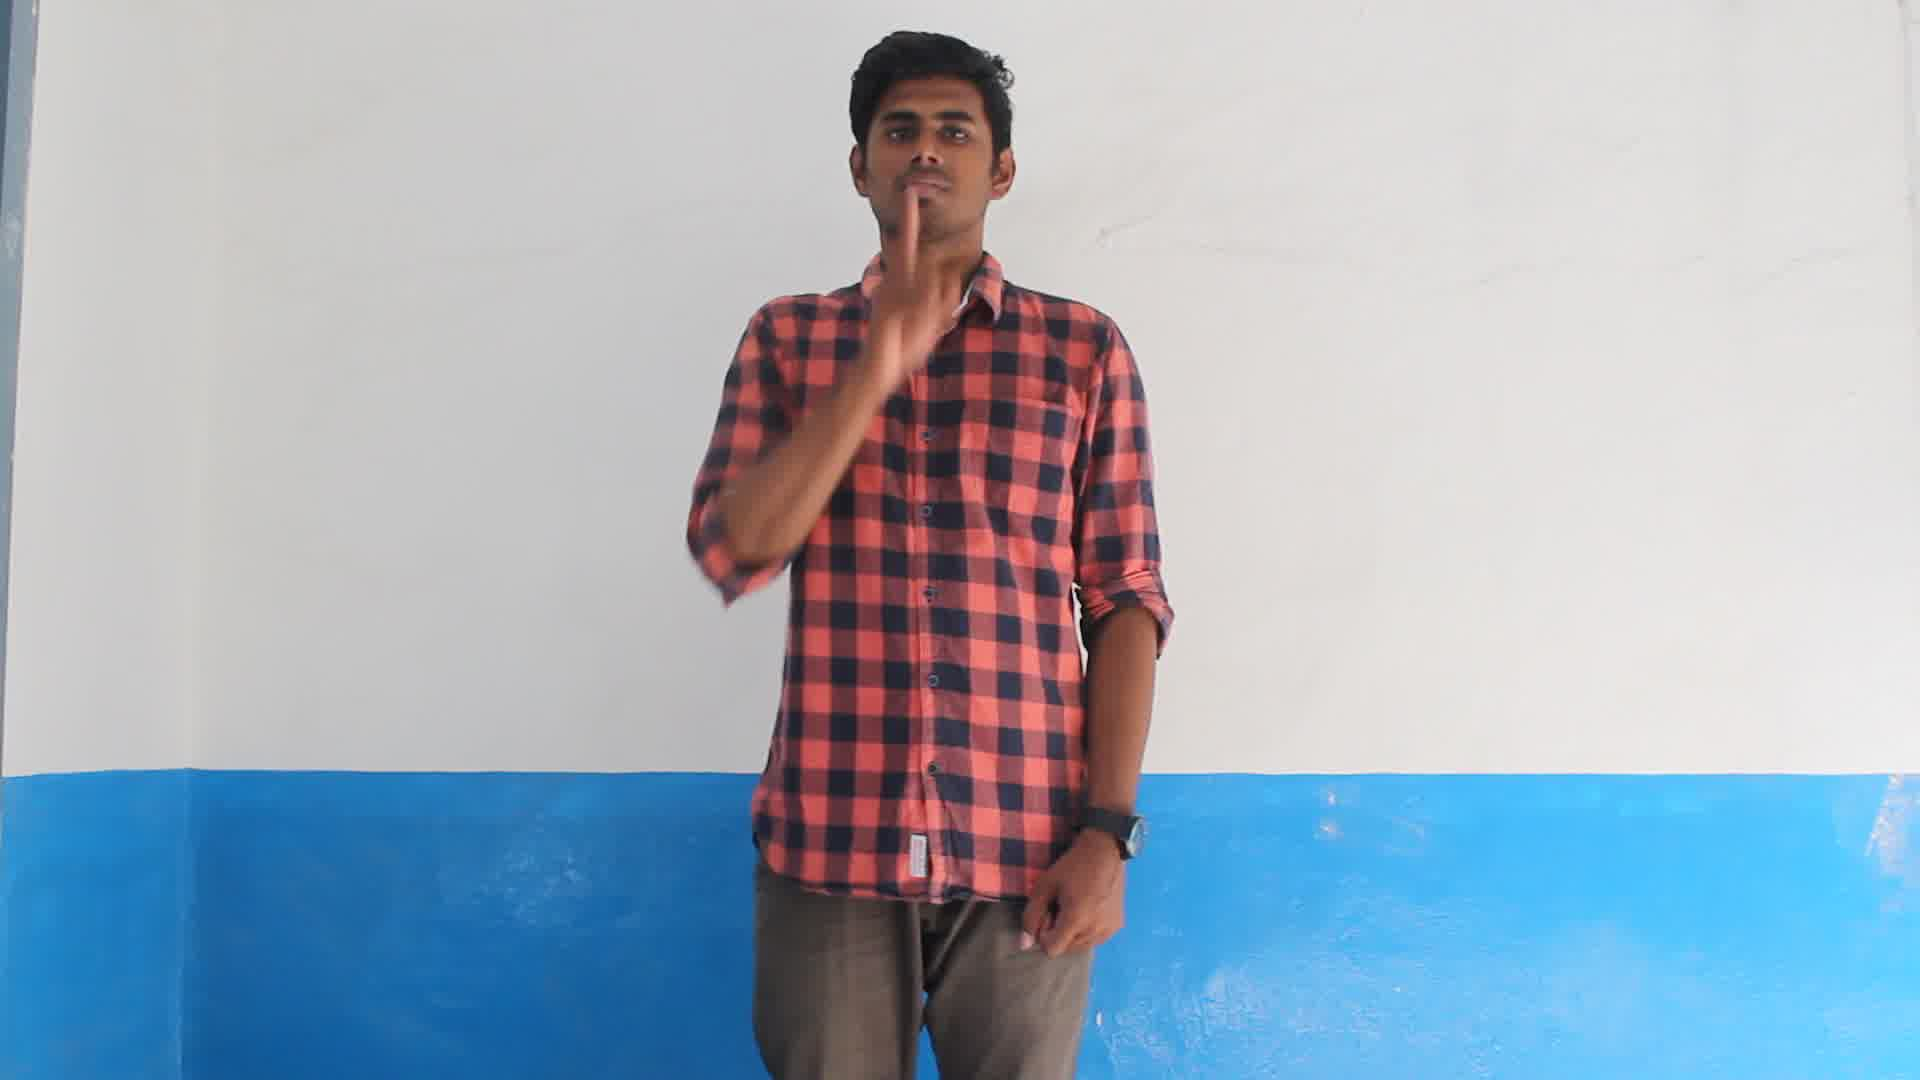quiet: (849, 167, 1021, 385)
